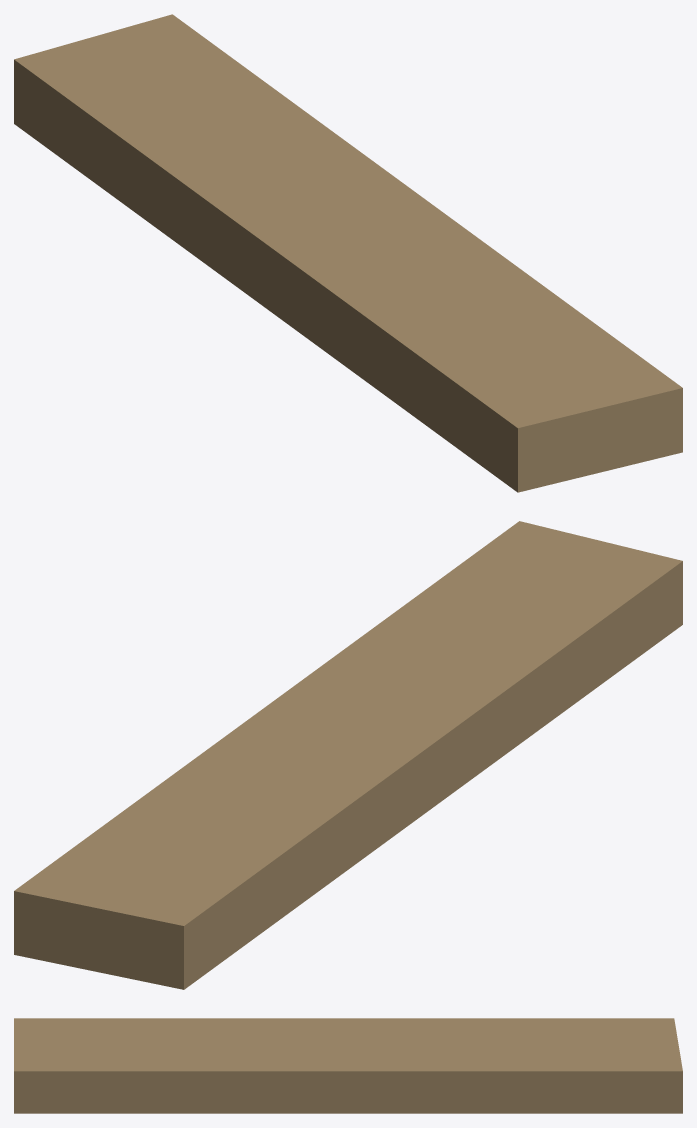
File: wooden_plank_step.fbx
3 renders of one model, top to bottom at view 1: azimuth 30°, elevation 25°; view 2: azimuth 150°, elevation 25°; view 3: azimuth 270°, elevation 25°, orthographic. The views are drawn at different scales.
Visible parts, largest first — view 1: wood_plank; view 2: wood_plank; view 3: wood_plank.
Part boxes in pixels (x1,y1,x2,y2): wood_plank: [14, 14, 682, 492]; wood_plank: [14, 521, 682, 989]; wood_plank: [14, 1018, 682, 1113].
Bounding box in the file's own units: 53.59 × 19.99 × 287.
